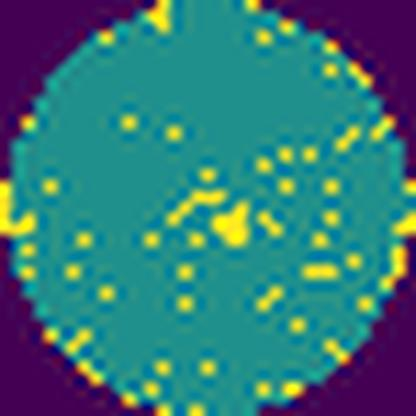Center: (162, 188, 257, 250)
